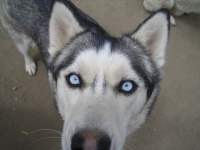dog: (3, 1, 170, 149)
